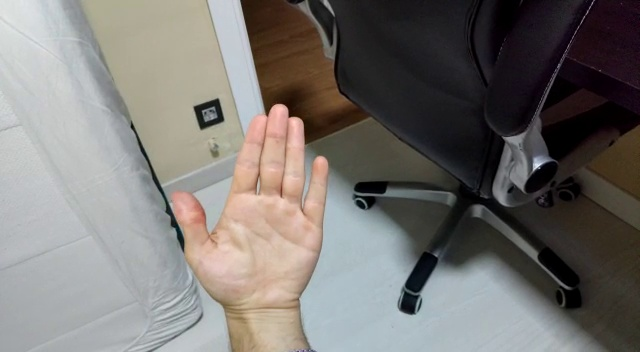Palm: (170, 98, 332, 327)
